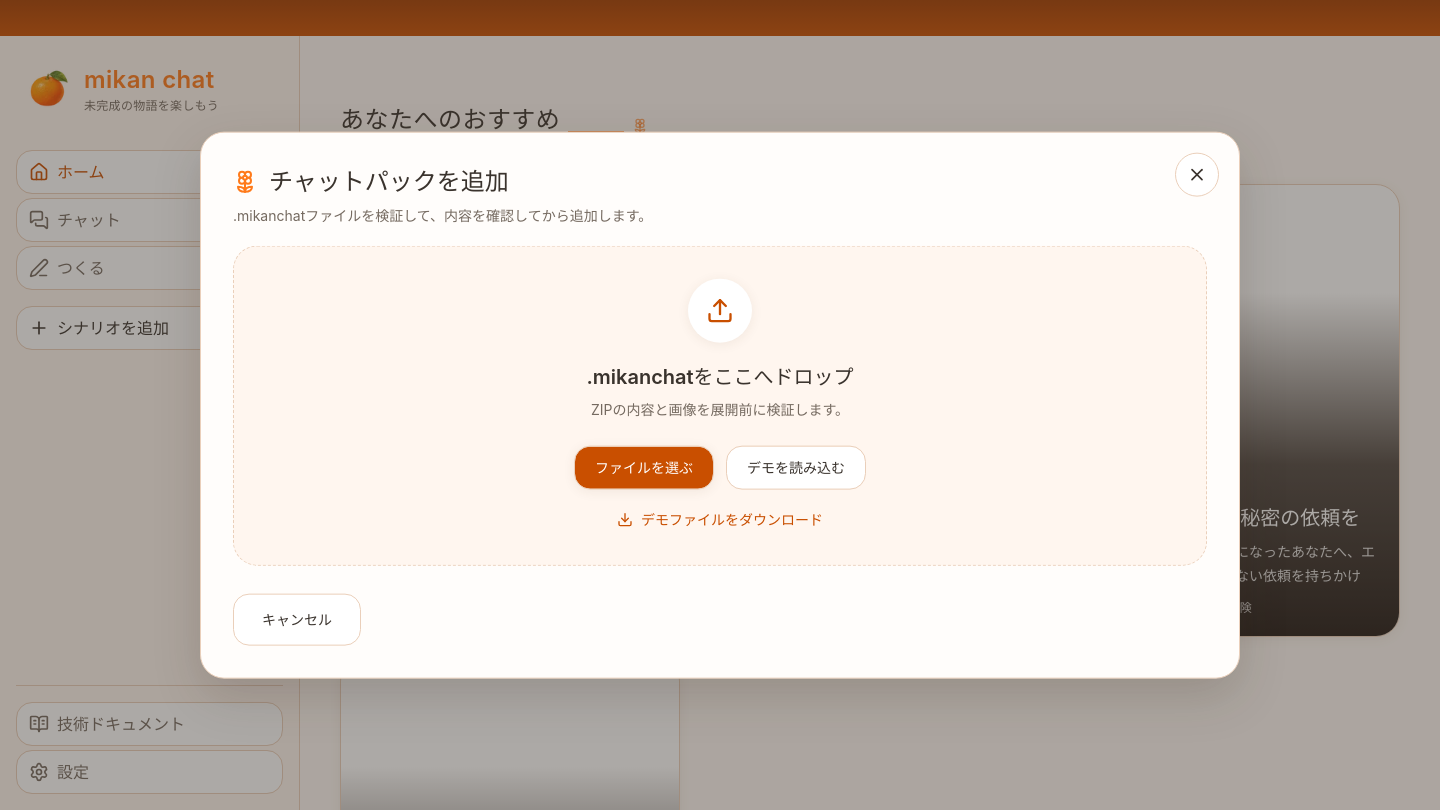
mikan chat UI flow › 画像なしのチャットパックを追加して会話できる
This screenshot has width=1440, height=810.
Click the button "デモを読み込む".
click(796, 467)  # box [726,445,866,489]
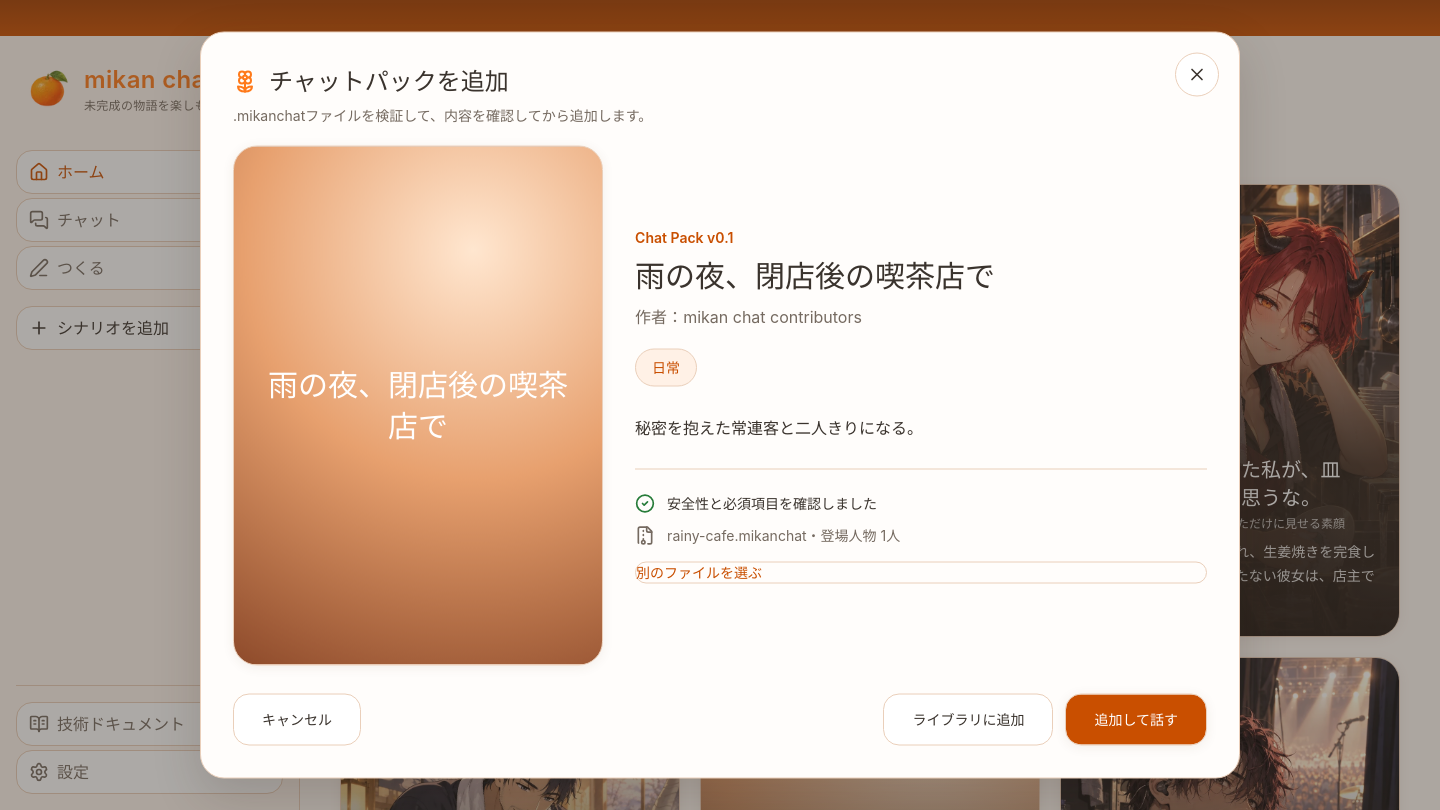
Result: the picture named "カバー画像はありません" is shown at [233,146,603,666]
Click the button "追加して話す".
click(1136, 720)  # box [1065,694,1207,746]
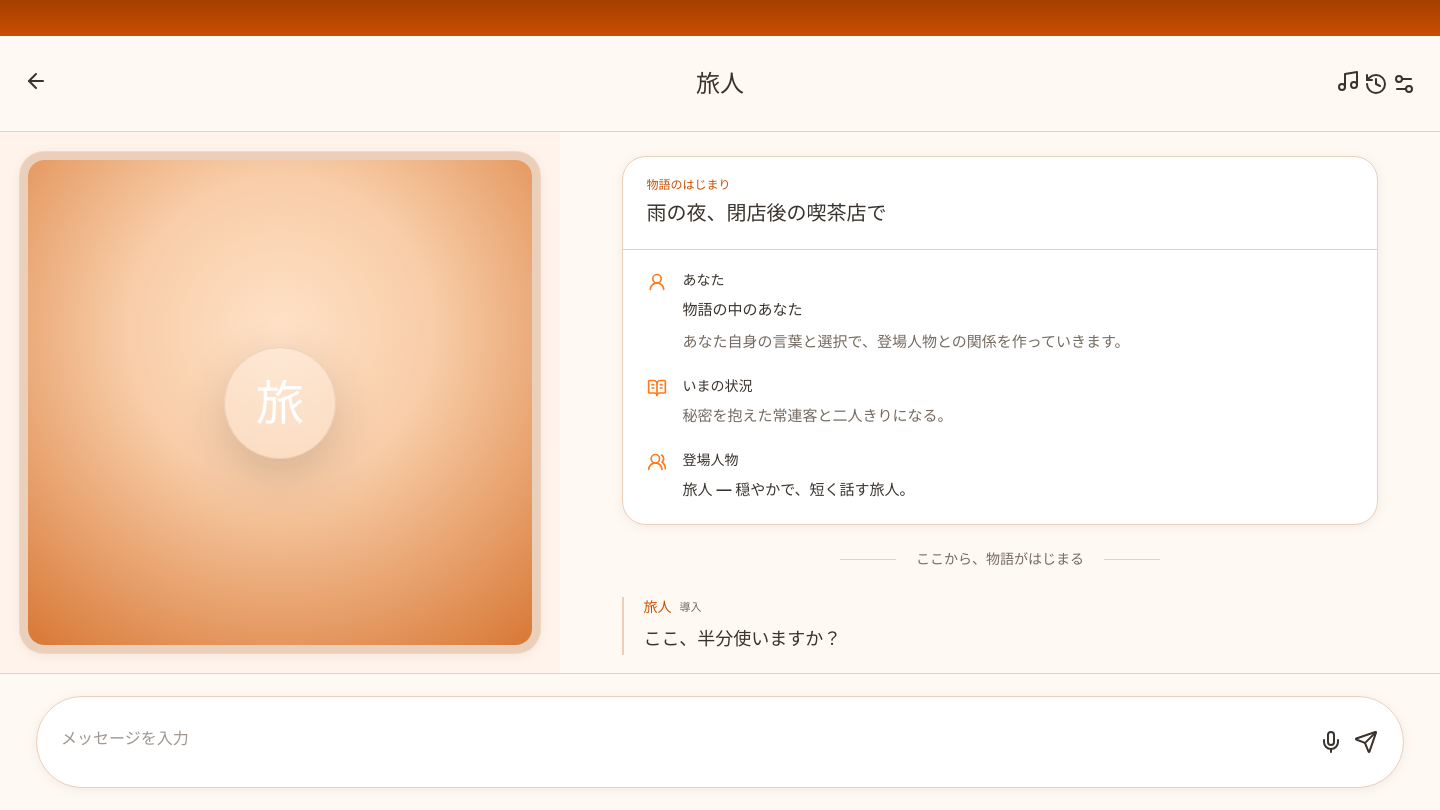
Result: the picture named "旅人の画像はありません" is shown at [28,160,532,645]
Result: the text "ここ、半分使いますか？" is shown at [644,628,841,649]
